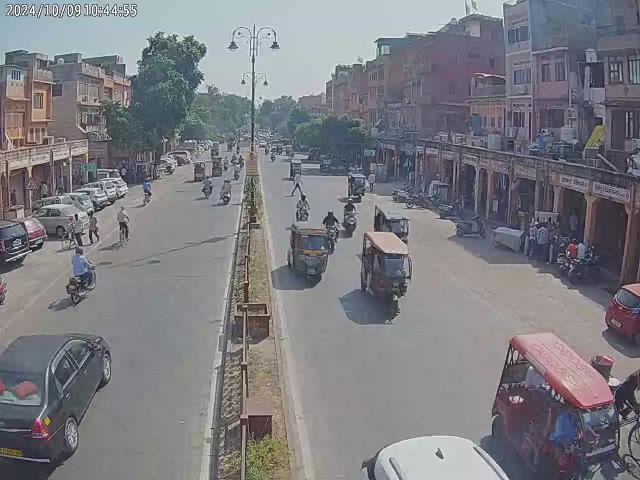auto: (490, 330, 620, 478), (358, 229, 412, 317), (286, 220, 334, 286), (374, 203, 411, 245), (346, 170, 366, 202), (192, 161, 205, 182), (210, 156, 222, 176)
bicycle-rider: (60, 214, 85, 248), (116, 206, 130, 244), (142, 178, 154, 205)
car: (0, 331, 112, 464), (0, 212, 48, 270), (604, 276, 640, 348), (30, 197, 90, 237), (75, 177, 128, 200), (159, 154, 176, 170)
helmet: (74, 245, 84, 254), (300, 192, 306, 199), (328, 210, 333, 217), (348, 198, 353, 204)
motorbike: (569, 252, 602, 284), (405, 192, 428, 210)
motorbike-rider: (64, 246, 98, 306), (322, 210, 340, 249), (296, 193, 310, 221), (348, 185, 364, 203), (202, 176, 213, 198)
person: (86, 209, 100, 244), (291, 172, 305, 197)
scooty: (454, 215, 486, 237), (438, 198, 466, 220)
scooty-rider: (342, 197, 358, 235), (220, 177, 233, 204)
